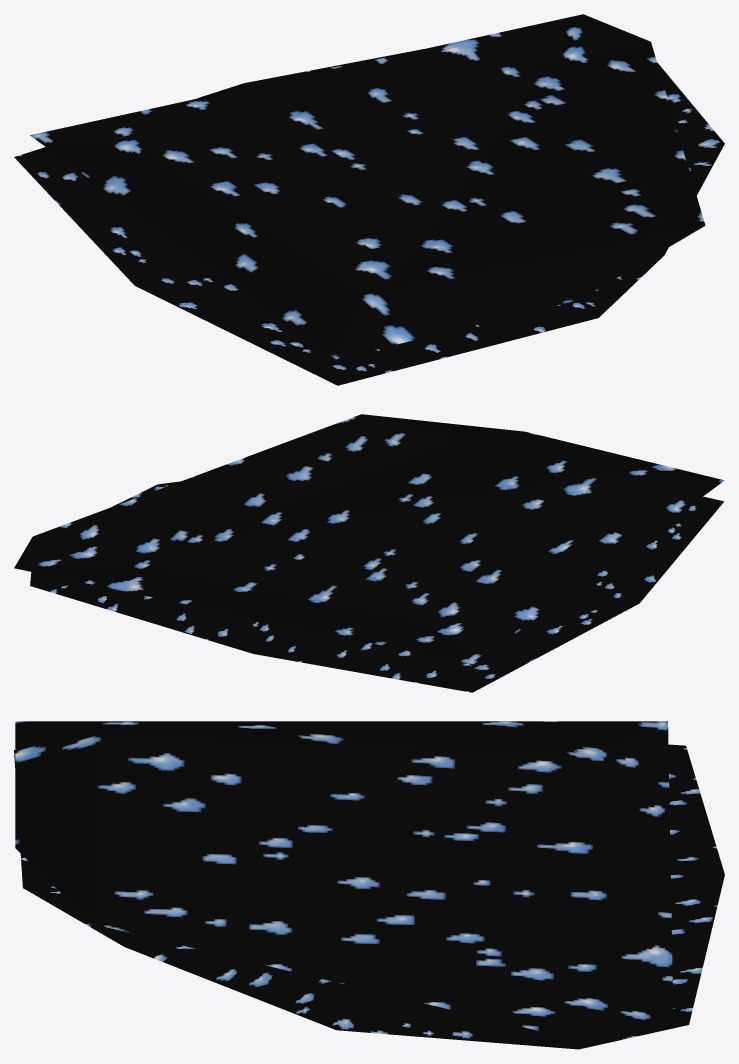
3 renders of one model, top to bottom at view 1: azimuth 30°, elevation 25°; view 2: azimuth 150°, elevation 25°; view 3: azimuth 270°, elevation 25°, orthographic. The views are drawn at different scales.
Visible parts, largest first — view 1: 26813; view 2: 26813; view 3: 26813.
Boxes of the visible parts, left/top/right/bottom form: 26813: left=14, top=14, right=724, bottom=385; 26813: left=14, top=414, right=724, bottom=692; 26813: left=14, top=721, right=724, bottom=1049.
Size of the model in its own units: 1.77 by 0.2014 by 1.63.
1 material, 1 textured.
